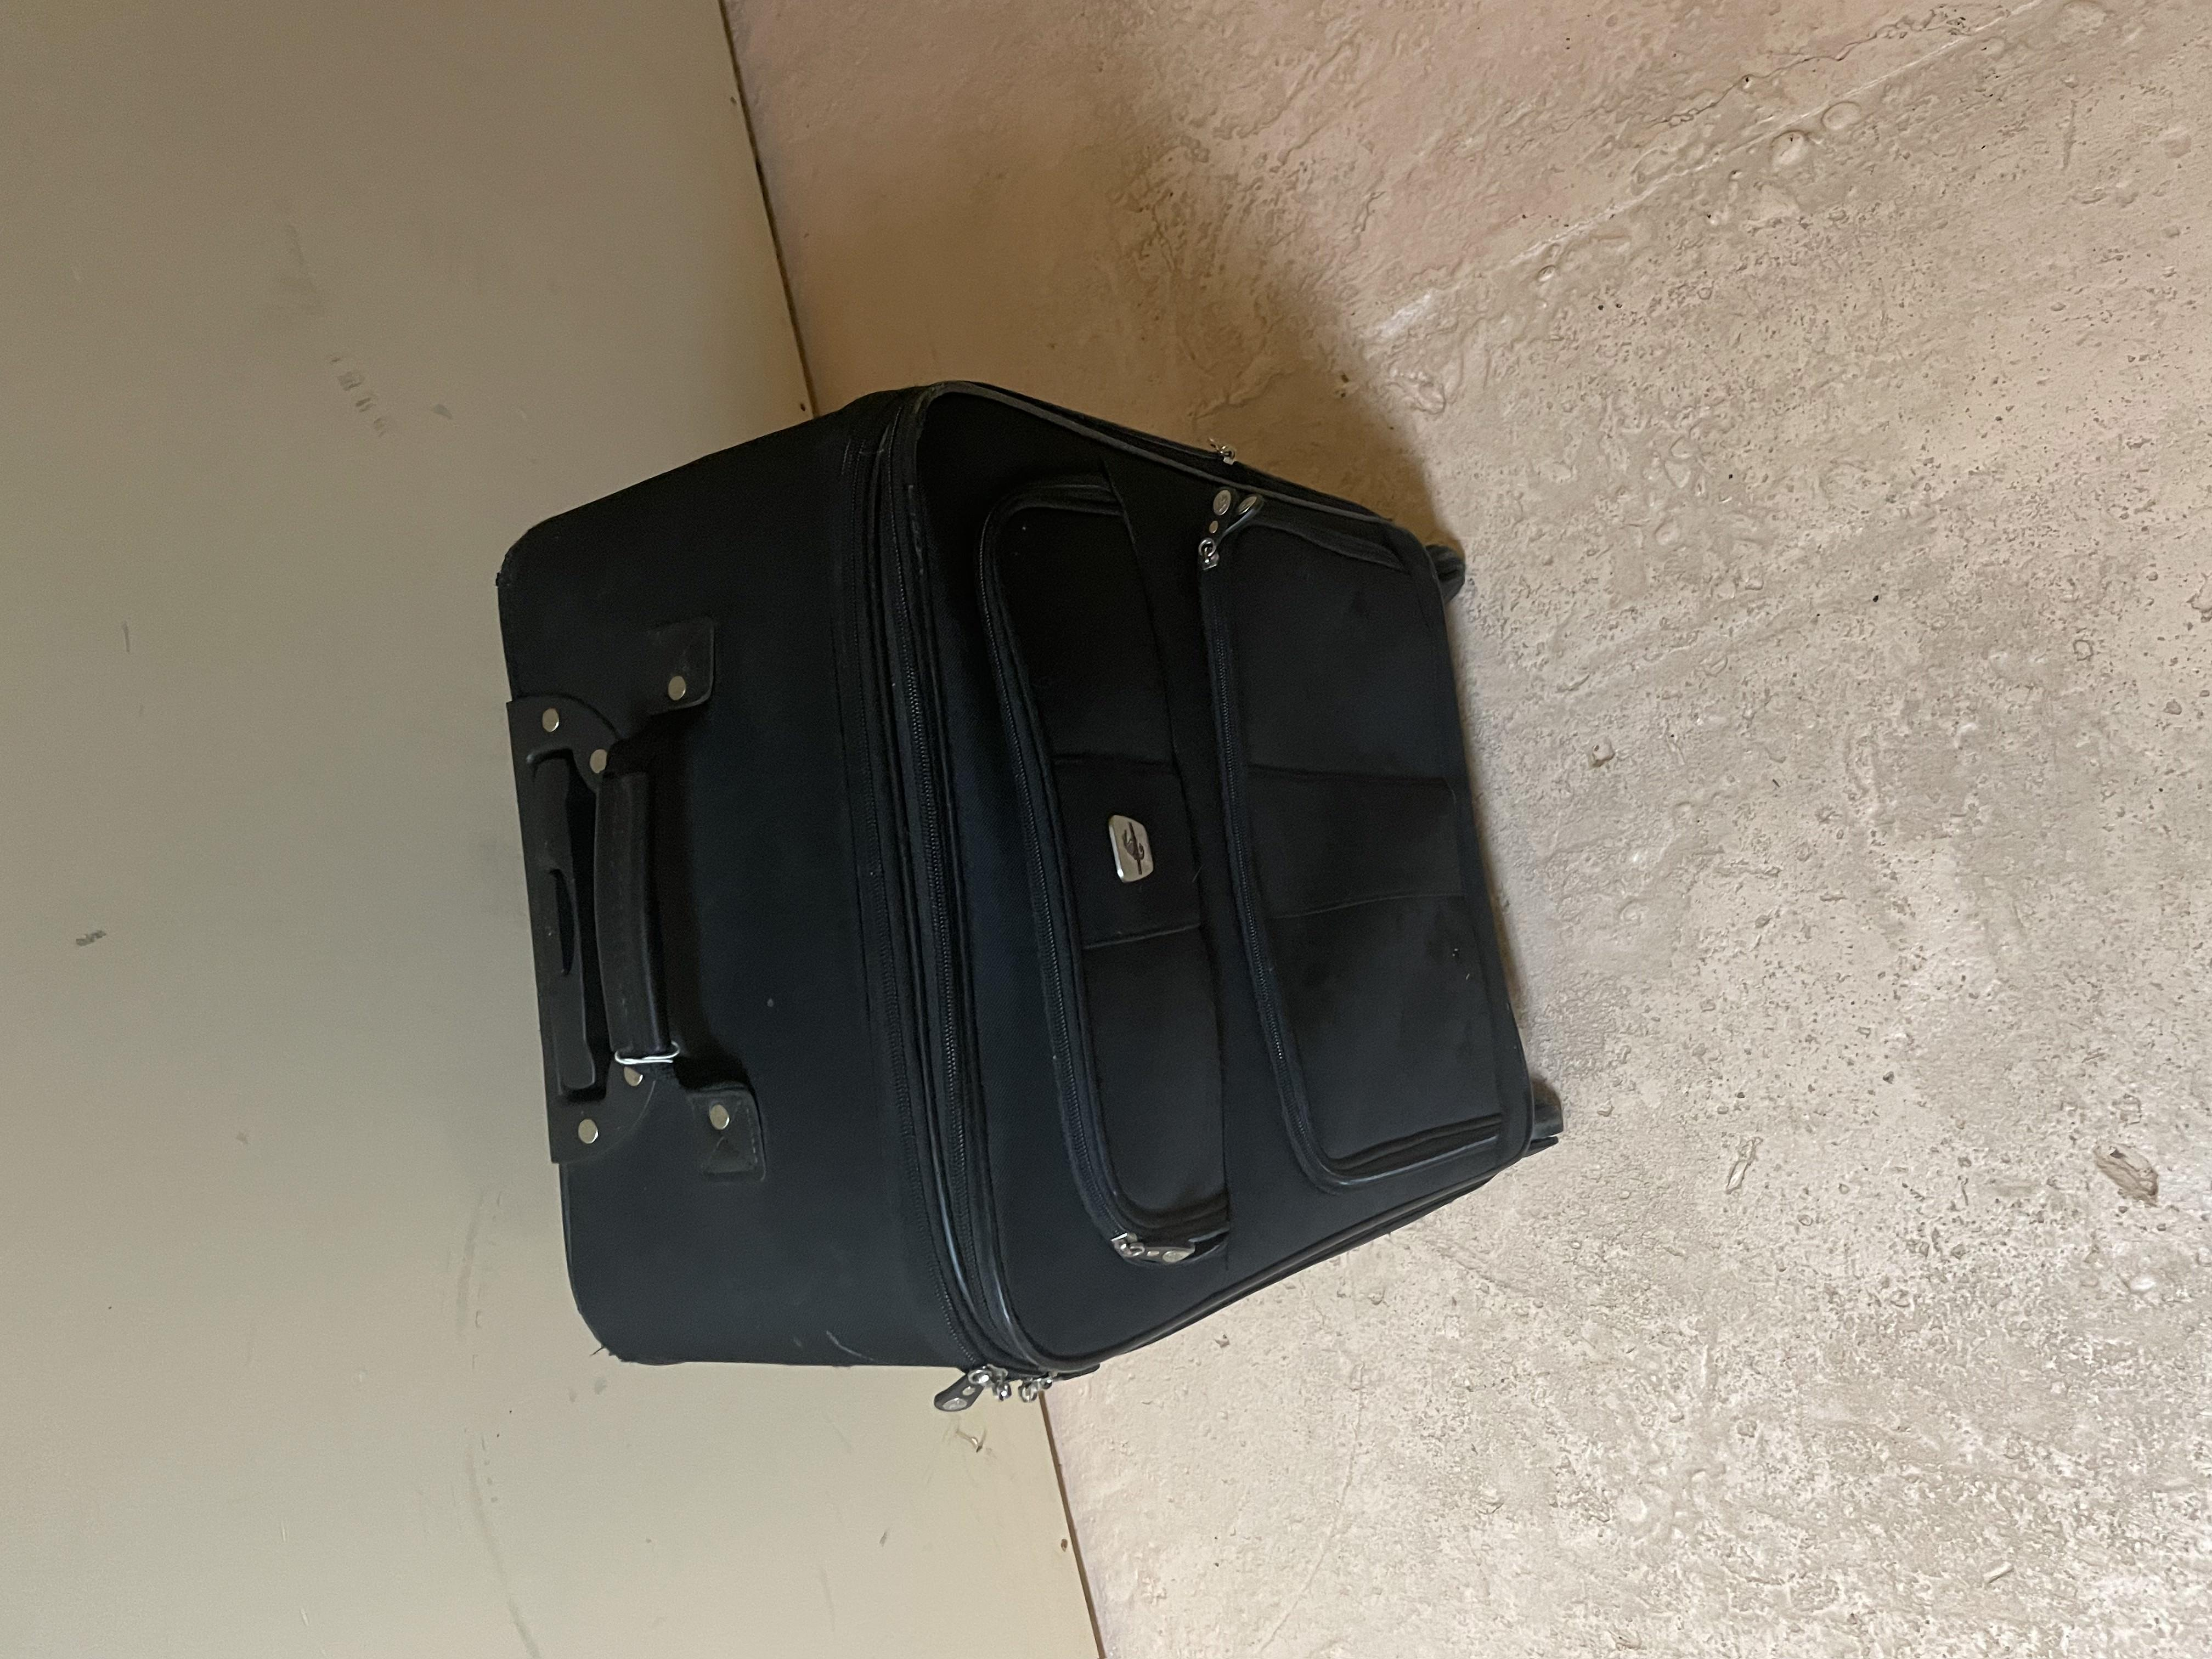suitcase: (359, 362, 1716, 1176)
